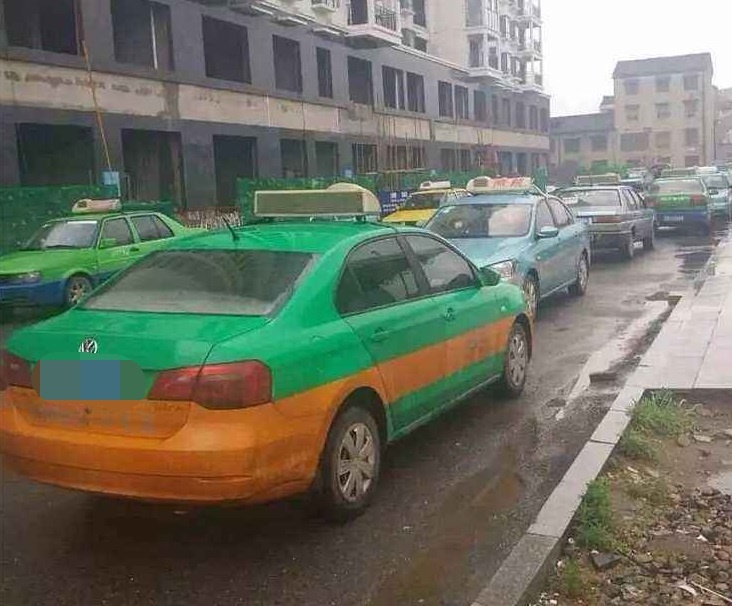family sedan: (552, 181, 660, 252)
taxi: (11, 197, 531, 502), (432, 173, 592, 303), (7, 207, 204, 299)
